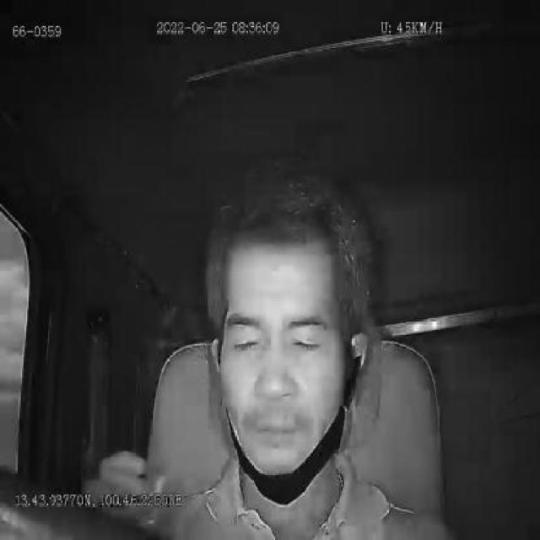smoking: (142, 472, 167, 522)
